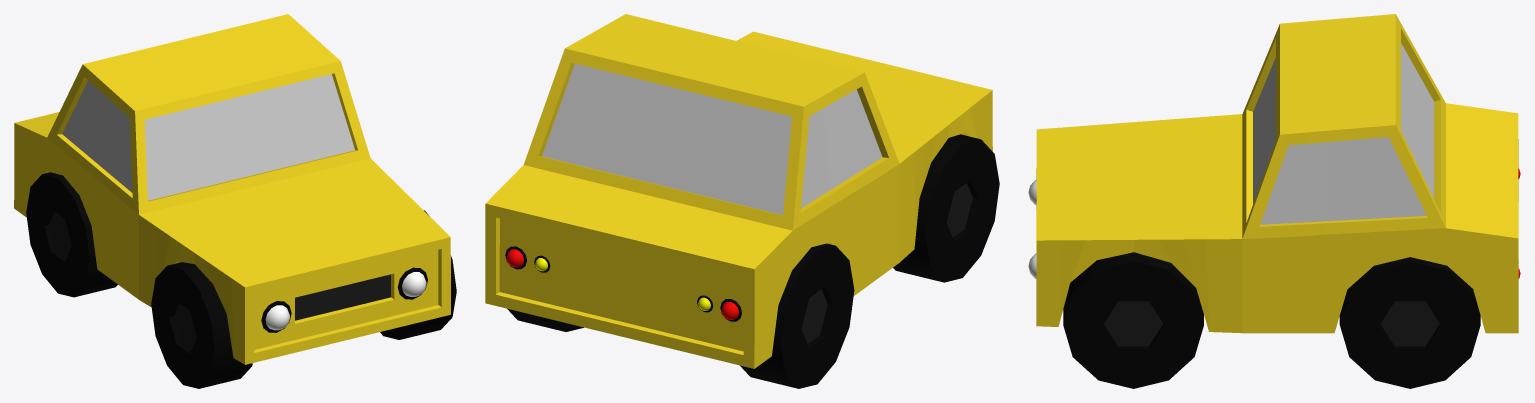
Rendered from Taxi5.FBX.
3 views of the same model, side by side, from view 1: azimuth 30°, elevation 25°; view 2: azimuth 150°, elevation 25°; view 3: azimuth 270°, elevation 25° (orthographic). The views are drawn at different scales.
Parts seen in each view (by area): view 1: Box001, Cylinder002, Cylinder003, Cylinder004; view 2: Box001, Cylinder002, Cylinder003, Cylinder005; view 3: Box001, Cylinder004, Cylinder005.
Part boxes in pixels (x1,y1,x2,y2): Box001: (14,14,450,364); Cylinder002: (151,262,252,388); Cylinder003: (26,172,117,297); Cylinder004: (380,210,456,339); Box001: (485,14,992,368); Cylinder002: (893,134,999,282); Cylinder003: (740,243,854,388); Cylinder005: (507,308,583,331); Box001: (1028,14,1520,333); Cylinder004: (1063,252,1203,388); Cylinder005: (1339,257,1480,388).
Bounding box in the file's own units: 5491 × 4981 × 8743.
